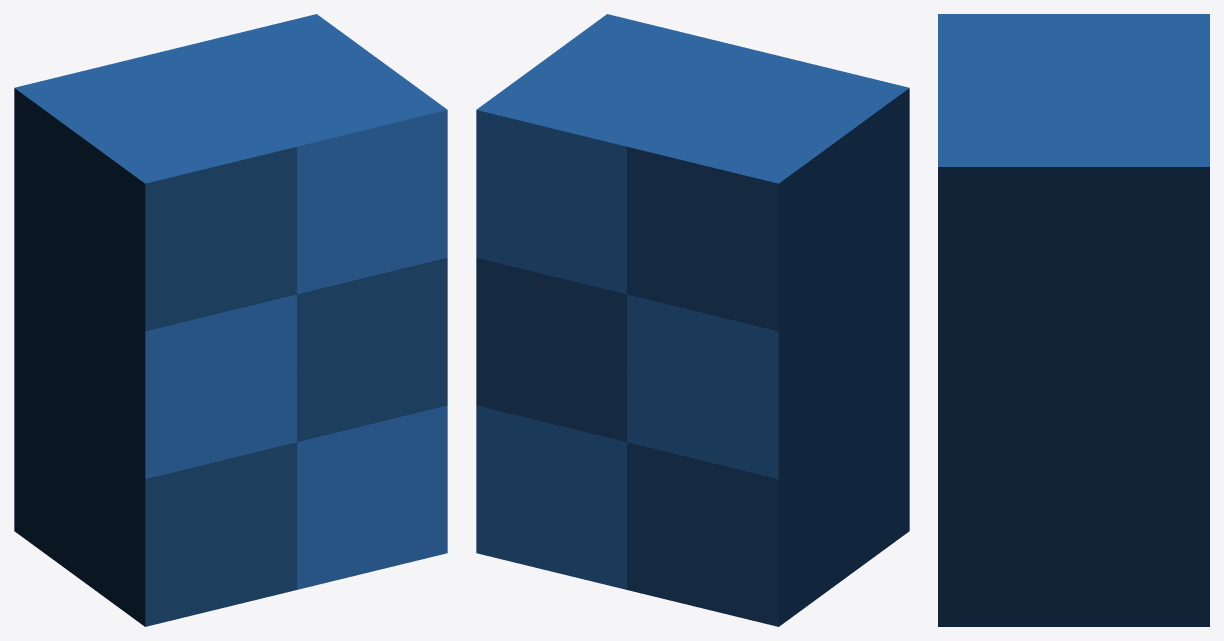
File: book_10.gltf
The picture shows the model from 3 angles, left to right: view 1: azimuth 30°, elevation 25°; view 2: azimuth 150°, elevation 25°; view 3: azimuth 270°, elevation 25°; orthographic projection. The views are drawn at different scales.
Parts seen in each view (by area): view 1: cuboid; view 2: cuboid; view 3: cuboid.
Part boxes in pixels (left/top/right/bottom): cuboid: left=14, top=14, right=447, bottom=626; cuboid: left=476, top=14, right=909, bottom=626; cuboid: left=938, top=14, right=1209, bottom=626.
Bounding box in the file's own units: 0.125 × 0.175 × 0.0938.
1 material, 1 textured.
